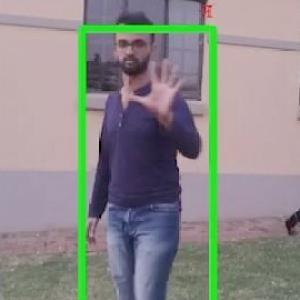follow_hand: (123, 48, 192, 129)
